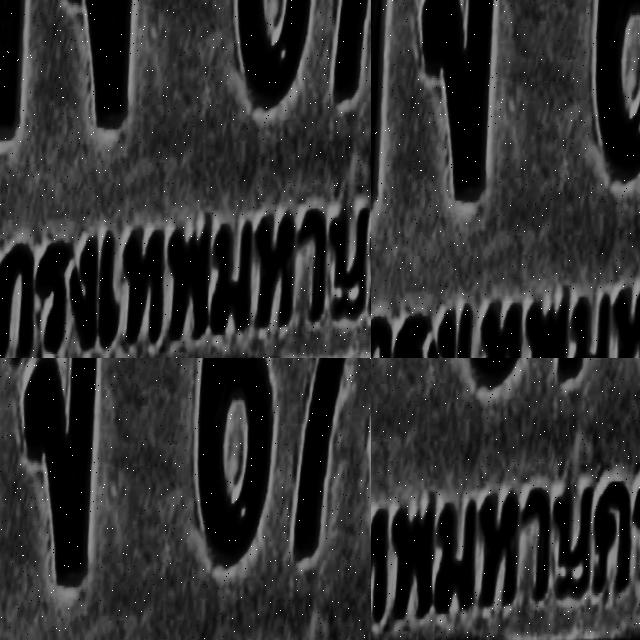license-plate: (371, 358, 640, 640), (371, 0, 571, 179)
